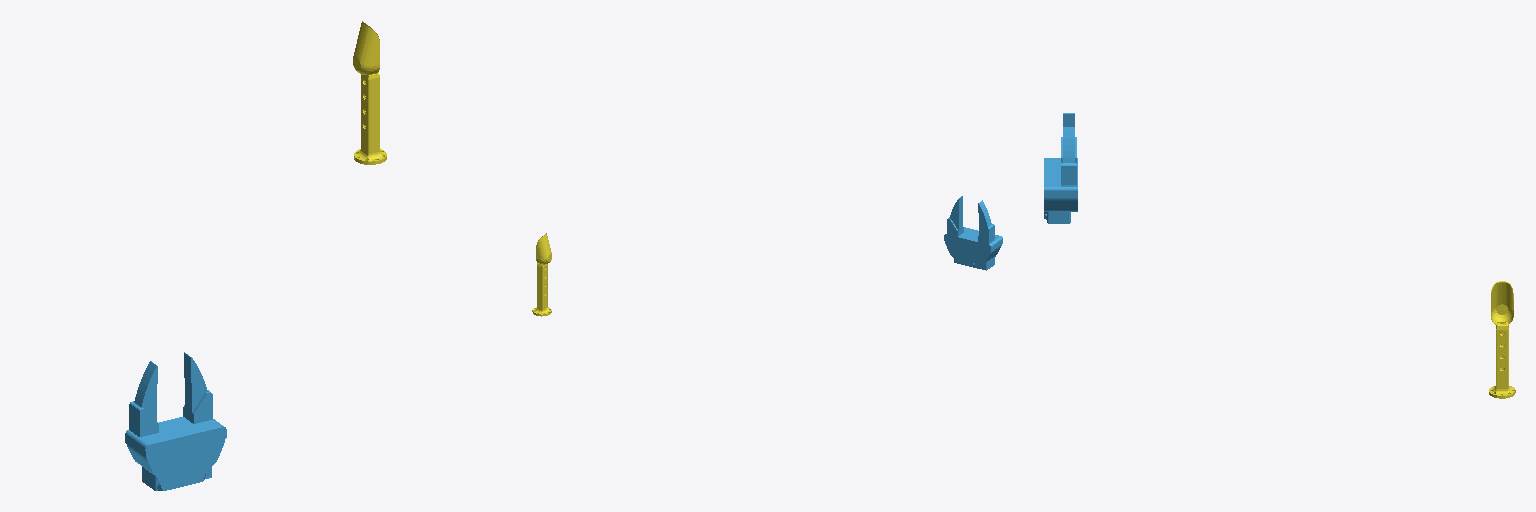
The robot description file, URDF, robot "dual_iiwa7":
<?xml version="1.0" ?>
<!-- =================================================================================== -->
<!-- |    This document was autogenerated by xacro from [local-path]/multi_iiwa_ws/src/lbr_fri_ros2_stack/lbr_description/urdf/dual_iiwa7/dual_iiwa7_mod.xacro | -->
<!-- |    EDITING THIS FILE BY HAND IS NOT RECOMMENDED                                 | -->
<!-- =================================================================================== -->
<robot name="dual_iiwa7">
  <!-- Base link for the world -->
  <!-- <link name="world" /> -->
  <link name="world">
    <origin rpy="0 0 0" xyz="0 0 0"/>
  </link>

  <joint name="world_kuka_blue_joint" type="fixed">
    <origin rpy="0 0 0" xyz="0 0 0"/>
    <parent link="world"/>
    <child link="kuka_blue_link_0"/>
  </joint>
  <link name="kuka_blue_link_0">
    <inertial>
      <origin rpy="0 0 0" xyz="-0.012857 0.0 0.069964"/>
      <mass value="4.855658"/>
      <inertia ixx="0.017839" ixy="0.0" ixz="0.000781" iyy="0.022294" iyz="0.0" izz="0.021334"/>
    </inertial>
    <visual>
      <origin rpy="0 0 0" xyz="0 0 0"/>
      <geometry>
        <mesh filename="package://lbr_description/meshes/iiwa7/visual/link_0.dae"/>
      </geometry>
    </visual>
    <collision>
      <origin rpy="0 0 0" xyz="0 0 0"/>
      <geometry>
        <mesh filename="package://lbr_description/meshes/iiwa7/collision/link_0.stl"/>
      </geometry>
    </collision>
  </link>
  <joint name="kuka_blue_A1" type="revolute">
    <origin rpy="0 0 0" xyz="0.0 0.0 0.1475"/>
    <parent link="kuka_blue_link_0"/>
    <child link="kuka_blue_link_1"/>
    <axis xyz="0.0 0.0 1.0"/>
    <limit effort="200" lower="-2.9670597283903604" upper="2.9670597283903604" velocity="1.710422666954443"/>
    <dynamics damping="10.0" friction="0.1"/>
  </joint>
  <link name="kuka_blue_link_1">
    <inertial>
      <origin rpy="0 0 0" xyz="0.0 -0.034819 0.123299"/>
      <mass value="3.394011"/>
      <inertia ixx="0.021383" ixy="0.0" ixz="0.0" iyy="0.020403" iyz="0.003797" izz="0.007563"/>
    </inertial>
    <visual>
      <origin rpy="0 0 0" xyz="0.0 0.0 -0.1475"/>
      <geometry>
        <mesh filename="package://lbr_description/meshes/iiwa7/visual/link_1.dae"/>
      </geometry>
    </visual>
    <collision>
      <origin rpy="0 0 0" xyz="0.0 0.0 -0.1475"/>
      <geometry>
        <mesh filename="package://lbr_description/meshes/iiwa7/collision/link_1.stl"/>
      </geometry>
    </collision>
  </link>
  <joint name="kuka_blue_A2" type="revolute">
    <origin rpy="0 0 0" xyz="0.0 -0.0105 0.1925"/>
    <parent link="kuka_blue_link_1"/>
    <child link="kuka_blue_link_2"/>
    <axis xyz="0.0 1.0 0.0"/>
    <limit effort="200" lower="-2.0943951023931953" upper="2.0943951023931953" velocity="1.710422666954443"/>
    <dynamics damping="10.0" friction="0.1"/>
  </joint>
  <link name="kuka_blue_link_2">
    <inertial>
      <origin rpy="0 0 0" xyz="0.0 0.039793 0.086944"/>
      <mass value="4.031991"/>
      <inertia ixx="0.031697" ixy="0.0" ixz="0.0" iyy="0.03008" iyz="0.005889" izz="0.009666"/>
    </inertial>
    <visual>
      <origin rpy="0 0 0" xyz="0.0 0.0105 -0.34"/>
      <geometry>
        <mesh filename="package://lbr_description/meshes/iiwa7/visual/link_2.dae"/>
      </geometry>
    </visual>
    <collision>
      <origin rpy="0 0 0" xyz="0.0 0.0105 -0.34"/>
      <geometry>
        <mesh filename="package://lbr_description/meshes/iiwa7/collision/link_2.stl"/>
      </geometry>
    </collision>
  </link>
  <joint name="kuka_blue_A3" type="revolute">
    <origin rpy="0 0 0" xyz="0.0 0.0105 0.2075"/>
    <parent link="kuka_blue_link_2"/>
    <child link="kuka_blue_link_3"/>
    <axis xyz="0.0 0.0 1.0"/>
    <limit effort="200" lower="-2.9670597283903604" upper="2.9670597283903604" velocity="1.7453292519943295"/>
    <dynamics damping="10.0" friction="0.1"/>
  </joint>
  <link name="kuka_blue_link_3">
    <inertial>
      <origin rpy="0 0 0" xyz="0.0 0.034819 0.123299"/>
      <mass value="3.394011"/>
      <inertia ixx="0.021383" ixy="0.0" ixz="0.0" iyy="0.020403" iyz="-0.003797" izz="0.007563"/>
    </inertial>
    <visual>
      <origin rpy="0 0 0" xyz="0.0 0.0 -0.5475"/>
      <geometry>
        <mesh filename="package://lbr_description/meshes/iiwa7/visual/link_3.dae"/>
      </geometry>
    </visual>
    <collision>
      <origin rpy="0 0 0" xyz="0.0 0.0 -0.5475"/>
      <geometry>
        <mesh filename="package://lbr_description/meshes/iiwa7/collision/link_3.stl"/>
      </geometry>
    </collision>
  </link>
  <joint name="kuka_blue_A4" type="revolute">
    <origin rpy="0 0 0" xyz="0.0 0.0105 0.1925"/>
    <parent link="kuka_blue_link_3"/>
    <child link="kuka_blue_link_4"/>
    <axis xyz="0.0 -1.0 0.0"/>
    <limit effort="200" lower="-2.0943951023931953" upper="2.0943951023931953" velocity="2.2689280275926285"/>
    <dynamics damping="10.0" friction="0.1"/>
  </joint>
  <link name="kuka_blue_link_4">
    <inertial>
      <origin rpy="0 0 0" xyz="0.0 -0.039793 0.086944"/>
      <mass value="4.031989"/>
      <inertia ixx="0.031695" ixy="0.0" ixz="0.0" iyy="0.030079" iyz="-0.005889" izz="0.009665"/>
    </inertial>
    <visual>
      <origin rpy="0 0 0" xyz="0.0 -0.0105 -0.74"/>
      <geometry>
        <mesh filename="package://lbr_description/meshes/iiwa7/visual/link_4.dae"/>
      </geometry>
    </visual>
    <collision>
      <origin rpy="0 0 0" xyz="0.0 -0.0105 -0.74"/>
      <geometry>
        <mesh filename="package://lbr_description/meshes/iiwa7/collision/link_4.stl"/>
      </geometry>
    </collision>
  </link>
  <joint name="kuka_blue_A5" type="revolute">
    <origin rpy="0 0 0" xyz="0.0 -0.0105 0.2075"/>
    <parent link="kuka_blue_link_4"/>
    <child link="kuka_blue_link_5"/>
    <axis xyz="0.0 0.0 1.0"/>
    <limit effort="200" lower="-2.9670597283903604" upper="2.9670597283903604" velocity="2.443460952792061"/>
    <dynamics damping="10.0" friction="0.1"/>
  </joint>
  <link name="kuka_blue_link_5">
    <inertial>
      <origin rpy="0 0 0" xyz="0.0 -0.029824 0.076267"/>
      <mass value="1.529239"/>
      <inertia ixx="0.008485" ixy="0.0" ixz="0.0" iyy="0.007136" iyz="0.002806" izz="0.003848"/>
    </inertial>
    <visual>
      <origin rpy="0 0 0" xyz="0.0 0.0 -0.9475"/>
      <geometry>
        <mesh filename="package://lbr_description/meshes/iiwa7/visual/link_5.dae"/>
      </geometry>
    </visual>
    <collision>
      <origin rpy="0 0 0" xyz="0.0 0.0 -0.9475"/>
      <geometry>
        <mesh filename="package://lbr_description/meshes/iiwa7/collision/link_5.stl"/>
      </geometry>
    </collision>
  </link>
  <joint name="kuka_blue_A6" type="revolute">
    <origin rpy="0 0 0" xyz="0.0 -0.0707 0.1925"/>
    <parent link="kuka_blue_link_5"/>
    <child link="kuka_blue_link_6"/>
    <axis xyz="0.0 1.0 0.0"/>
    <limit effort="200" lower="-2.0943951023931953" upper="2.0943951023931953" velocity="3.141592653589793"/>
    <dynamics damping="10.0" friction="0.1"/>
  </joint>
  <link name="kuka_blue_link_6">
    <inertial>
      <origin rpy="0 0 0" xyz="0.0 0.07102 0.00495"/>
      <mass value="2.403626"/>
      <inertia ixx="0.007067" ixy="0.0" ixz="0.0" iyy="0.006804" iyz="0.000311" izz="0.004629"/>
    </inertial>
    <visual>
      <origin rpy="0 0 0" xyz="0.0 0.0707 -1.14"/>
      <geometry>
        <mesh filename="package://lbr_description/meshes/iiwa7/visual/link_6.dae"/>
      </geometry>
    </visual>
    <collision>
      <origin rpy="0 0 0" xyz="0.0 0.0707 -1.14"/>
      <geometry>
        <mesh filename="package://lbr_description/meshes/iiwa7/collision/link_6.stl"/>
      </geometry>
    </collision>
  </link>
  <joint name="kuka_blue_A7" type="revolute">
    <origin rpy="0 0 0" xyz="0.0 0.0707 0.091"/>
    <parent link="kuka_blue_link_6"/>
    <child link="kuka_blue_link_7"/>
    <axis xyz="0.0 0.0 1.0"/>
    <limit effort="200" lower="-3.0543261909900763" upper="3.0543261909900763" velocity="3.141592653589793"/>
    <dynamics damping="10.0" friction="0.1"/>
  </joint>
  <link name="kuka_blue_link_7">
    <inertial>
      <origin rpy="0 0 0" xyz="3.0000e-06 -2.0000e-06 1.3782e-02"/>
      <mass value="0.259474"/>
      <inertia ixx="0.000171" ixy="0.0" ixz="0.0" iyy="0.000171" iyz="0.0" izz="0.000299"/>
    </inertial>
    <visual>
      <origin rpy="0 0 0" xyz="0.0 0.0 -1.231"/>
      <geometry>
        <mesh filename="package://lbr_description/meshes/iiwa7/visual/link_7.dae"/>
      </geometry>
    </visual>
    <collision>
      <origin rpy="0 0 0" xyz="0.0 0.0 -1.231"/>
      <geometry>
        <mesh filename="package://lbr_description/meshes/iiwa7/collision/link_7.stl"/>
      </geometry>
    </collision>
  </link>
  <joint name="kuka_blue_joint_ee" type="fixed">
    <parent link="kuka_blue_link_7"/>
    <child link="kuka_blue_link_ee"/>
    <origin rpy="0 0 0" xyz="0 0 0.035"/>
  </joint>
  <link name="kuka_blue_link_ee">
    <inertial>
      <origin rpy="0 0 0" xyz="0 0 0"/>
      <mass value="1.3"/>
      <inertia ixx="0.0001" ixy="0.0" ixz="0.0" iyy="0.0001" iyz="0.0" izz="0.0001"/>
    </inertial>
    <visual>
      <origin rpy="1.5708 0 0" xyz="0.0 0.0 0.035"/>
      <geometry>
        <mesh filename="package://lbr_description/meshes/iiwa7/visual/gripper_collision.dae"/>
      </geometry>
    </visual>
    <collision>
      <origin rpy="1.5708 0 0" xyz="0.0 0.0 0.035"/>
      <geometry>
        <mesh filename="package://lbr_description/meshes/iiwa7/collision/compressed_gripper.stl"/>
      </geometry>
    </collision>
  </link>
  <joint name="kuka_blue_joint_tcp" type="fixed">
    <parent link="kuka_blue_link_ee"/>
    <child link="kuka_blue_link_tcp"/>
    <origin rpy="0 0 0" xyz="-0.0002 0.0016 0.1705"/>
  </joint>
  <link name="kuka_blue_link_tcp">
        </link>

  <joint name="world_kuka_green_joint" type="fixed">
    <origin rpy="0 0 0" xyz="1 1 0"/>
    <parent link="world"/>
    <child link="kuka_green_link_0"/>
  </joint>
  <link name="kuka_green_link_0">
    <inertial>
      <origin rpy="0 0 0" xyz="-0.012857 0.0 0.069964"/>
      <mass value="4.855658"/>
      <inertia ixx="0.017839" ixy="0.0" ixz="0.000781" iyy="0.022294" iyz="0.0" izz="0.021334"/>
    </inertial>
    <visual>
      <origin rpy="0 0 0" xyz="0 0 0"/>
      <geometry>
        <mesh filename="package://lbr_description/meshes/iiwa7/visual/link_0.dae"/>
      </geometry>
    </visual>
    <collision>
      <origin rpy="0 0 0" xyz="0 0 0"/>
      <geometry>
        <mesh filename="package://lbr_description/meshes/iiwa7/collision/link_0.stl"/>
      </geometry>
    </collision>
  </link>
  <joint name="kuka_green_A1" type="revolute">
    <origin rpy="0 0 0" xyz="0.0 0.0 0.1475"/>
    <parent link="kuka_green_link_0"/>
    <child link="kuka_green_link_1"/>
    <axis xyz="0.0 0.0 1.0"/>
    <limit effort="200" lower="-2.9670597283903604" upper="2.9670597283903604" velocity="1.710422666954443"/>
    <dynamics damping="10.0" friction="0.1"/>
  </joint>
  <link name="kuka_green_link_1">
    <inertial>
      <origin rpy="0 0 0" xyz="0.0 -0.034819 0.123299"/>
      <mass value="3.394011"/>
      <inertia ixx="0.021383" ixy="0.0" ixz="0.0" iyy="0.020403" iyz="0.003797" izz="0.007563"/>
    </inertial>
    <visual>
      <origin rpy="0 0 0" xyz="0.0 0.0 -0.1475"/>
      <geometry>
        <mesh filename="package://lbr_description/meshes/iiwa7/visual/link_1.dae"/>
      </geometry>
    </visual>
    <collision>
      <origin rpy="0 0 0" xyz="0.0 0.0 -0.1475"/>
      <geometry>
        <mesh filename="package://lbr_description/meshes/iiwa7/collision/link_1.stl"/>
      </geometry>
    </collision>
  </link>
  <joint name="kuka_green_A2" type="revolute">
    <origin rpy="0 0 0" xyz="0.0 -0.0105 0.1925"/>
    <parent link="kuka_green_link_1"/>
    <child link="kuka_green_link_2"/>
    <axis xyz="0.0 1.0 0.0"/>
    <limit effort="200" lower="-2.0943951023931953" upper="2.0943951023931953" velocity="1.710422666954443"/>
    <dynamics damping="10.0" friction="0.1"/>
  </joint>
  <link name="kuka_green_link_2">
    <inertial>
      <origin rpy="0 0 0" xyz="0.0 0.039793 0.086944"/>
      <mass value="4.031991"/>
      <inertia ixx="0.031697" ixy="0.0" ixz="0.0" iyy="0.03008" iyz="0.005889" izz="0.009666"/>
    </inertial>
    <visual>
      <origin rpy="0 0 0" xyz="0.0 0.0105 -0.34"/>
      <geometry>
        <mesh filename="package://lbr_description/meshes/iiwa7/visual/link_2.dae"/>
      </geometry>
    </visual>
    <collision>
      <origin rpy="0 0 0" xyz="0.0 0.0105 -0.34"/>
      <geometry>
        <mesh filename="package://lbr_description/meshes/iiwa7/collision/link_2.stl"/>
      </geometry>
    </collision>
  </link>
  <joint name="kuka_green_A3" type="revolute">
    <origin rpy="0 0 0" xyz="0.0 0.0105 0.2075"/>
    <parent link="kuka_green_link_2"/>
    <child link="kuka_green_link_3"/>
    <axis xyz="0.0 0.0 1.0"/>
    <limit effort="200" lower="-2.9670597283903604" upper="2.9670597283903604" velocity="1.7453292519943295"/>
    <dynamics damping="10.0" friction="0.1"/>
  </joint>
  <link name="kuka_green_link_3">
    <inertial>
      <origin rpy="0 0 0" xyz="0.0 0.034819 0.123299"/>
      <mass value="3.394011"/>
      <inertia ixx="0.021383" ixy="0.0" ixz="0.0" iyy="0.020403" iyz="-0.003797" izz="0.007563"/>
    </inertial>
    <visual>
      <origin rpy="0 0 0" xyz="0.0 0.0 -0.5475"/>
      <geometry>
        <mesh filename="package://lbr_description/meshes/iiwa7/visual/link_3.dae"/>
      </geometry>
    </visual>
    <collision>
      <origin rpy="0 0 0" xyz="0.0 0.0 -0.5475"/>
      <geometry>
        <mesh filename="package://lbr_description/meshes/iiwa7/collision/link_3.stl"/>
      </geometry>
    </collision>
  </link>
  <joint name="kuka_green_A4" type="revolute">
    <origin rpy="0 0 0" xyz="0.0 0.0105 0.1925"/>
    <parent link="kuka_green_link_3"/>
    <child link="kuka_green_link_4"/>
    <axis xyz="0.0 -1.0 0.0"/>
    <limit effort="200" lower="-2.0943951023931953" upper="2.0943951023931953" velocity="2.2689280275926285"/>
    <dynamics damping="10.0" friction="0.1"/>
  </joint>
  <link name="kuka_green_link_4">
    <inertial>
      <origin rpy="0 0 0" xyz="0.0 -0.039793 0.086944"/>
      <mass value="4.031989"/>
      <inertia ixx="0.031695" ixy="0.0" ixz="0.0" iyy="0.030079" iyz="-0.005889" izz="0.009665"/>
    </inertial>
    <visual>
      <origin rpy="0 0 0" xyz="0.0 -0.0105 -0.74"/>
      <geometry>
        <mesh filename="package://lbr_description/meshes/iiwa7/visual/link_4.dae"/>
      </geometry>
    </visual>
    <collision>
      <origin rpy="0 0 0" xyz="0.0 -0.0105 -0.74"/>
      <geometry>
        <mesh filename="package://lbr_description/meshes/iiwa7/collision/link_4.stl"/>
      </geometry>
    </collision>
  </link>
  <joint name="kuka_green_A5" type="revolute">
    <origin rpy="0 0 0" xyz="0.0 -0.0105 0.2075"/>
    <parent link="kuka_green_link_4"/>
    <child link="kuka_green_link_5"/>
    <axis xyz="0.0 0.0 1.0"/>
    <limit effort="200" lower="-2.9670597283903604" upper="2.9670597283903604" velocity="2.443460952792061"/>
    <dynamics damping="10.0" friction="0.1"/>
  </joint>
  <link name="kuka_green_link_5">
    <inertial>
      <origin rpy="0 0 0" xyz="0.0 -0.029824 0.076267"/>
      <mass value="1.529239"/>
      <inertia ixx="0.008485" ixy="0.0" ixz="0.0" iyy="0.007136" iyz="0.002806" izz="0.003848"/>
    </inertial>
    <visual>
      <origin rpy="0 0 0" xyz="0.0 0.0 -0.9475"/>
      <geometry>
        <mesh filename="package://lbr_description/meshes/iiwa7/visual/link_5.dae"/>
      </geometry>
    </visual>
    <collision>
      <origin rpy="0 0 0" xyz="0.0 0.0 -0.9475"/>
      <geometry>
        <mesh filename="package://lbr_description/meshes/iiwa7/collision/link_5.stl"/>
      </geometry>
    </collision>
  </link>
  <joint name="kuka_green_A6" type="revolute">
    <origin rpy="0 0 0" xyz="0.0 -0.0707 0.1925"/>
    <parent link="kuka_green_link_5"/>
    <child link="kuka_green_link_6"/>
    <axis xyz="0.0 1.0 0.0"/>
    <limit effort="200" lower="-2.0943951023931953" upper="2.0943951023931953" velocity="3.141592653589793"/>
    <dynamics damping="10.0" friction="0.1"/>
  </joint>
  <link name="kuka_green_link_6">
    <inertial>
      <origin rpy="0 0 0" xyz="0.0 0.07102 0.00495"/>
      <mass value="2.403626"/>
      <inertia ixx="0.007067" ixy="0.0" ixz="0.0" iyy="0.006804" iyz="0.000311" izz="0.004629"/>
    </inertial>
    <visual>
      <origin rpy="0 0 0" xyz="0.0 0.0707 -1.14"/>
      <geometry>
        <mesh filename="package://lbr_description/meshes/iiwa7/visual/link_6.dae"/>
      </geometry>
    </visual>
    <collision>
      <origin rpy="0 0 0" xyz="0.0 0.0707 -1.14"/>
      <geometry>
        <mesh filename="package://lbr_description/meshes/iiwa7/collision/link_6.stl"/>
      </geometry>
    </collision>
  </link>
  <joint name="kuka_green_A7" type="revolute">
    <origin rpy="0 0 0" xyz="0.0 0.0707 0.091"/>
    <parent link="kuka_green_link_6"/>
    <child link="kuka_green_link_7"/>
    <axis xyz="0.0 0.0 1.0"/>
    <limit effort="200" lower="-3.0543261909900763" upper="3.0543261909900763" velocity="3.141592653589793"/>
    <dynamics damping="10.0" friction="0.1"/>
  </joint>
  <link name="kuka_green_link_7">
    <inertial>
      <origin rpy="0 0 0" xyz="3.0000e-06 -2.0000e-06 1.3782e-02"/>
      <mass value="0.259474"/>
      <inertia ixx="0.000171" ixy="0.0" ixz="0.0" iyy="0.000171" iyz="0.0" izz="0.000299"/>
    </inertial>
    <visual>
      <origin rpy="0 0 0" xyz="0.0 0.0 -1.231"/>
      <geometry>
        <mesh filename="package://lbr_description/meshes/iiwa7/visual/link_7.dae"/>
      </geometry>
    </visual>
    <collision>
      <origin rpy="0 0 0" xyz="0.0 0.0 -1.231"/>
      <geometry>
        <mesh filename="package://lbr_description/meshes/iiwa7/collision/link_7.stl"/>
      </geometry>
    </collision>
  </link>
  <joint name="kuka_green_joint_ee" type="fixed">
    <parent link="kuka_green_link_7"/>
    <child link="kuka_green_link_ee"/>
    <origin rpy="0 0 0" xyz="0 0 0.035"/>
  </joint>
  <link name="kuka_green_link_ee">
    <inertial>
      <origin rpy="0 0 0" xyz="0 0 0"/>
      <mass value="0.1"/>
      <inertia ixx="0.0001" ixy="0.0" ixz="0.0" iyy="0.0001" iyz="0.0" izz="0.0001"/>
    </inertial>
    <visual>
      <origin rpy="0 0 0" xyz="0.0 -0.022 0.035"/>
      <geometry>
        <mesh filename="package://lbr_description/meshes/iiwa7/visual/scooper_collision.dae"/>
      </geometry>
    </visual>
    <collision>
      <origin rpy="0 0 0" xyz="0.0 -0.022 0.035"/>
      <geometry>
        <mesh filename="package://lbr_description/meshes/iiwa7/collision/compressed_mesh_scooper.stl"/>
      </geometry>
    </collision>
  </link>
  <joint name="kuka_green_joint_tcp" type="fixed">
    <parent link="kuka_green_link_ee"/>
    <child link="kuka_green_link_tcp"/>
    <origin rpy="0 0 0" xyz="-0.0156 -0.0024 0.3386"/>
  </joint>
  <link name="kuka_green_link_tcp">
        </link>
</robot>

--- Render facts (derived) ---
Views: 3 orthographic renders of the robot side by side, from view 1: azimuth 30°, elevation 25°; view 2: azimuth 150°, elevation 25°; view 3: azimuth 270°, elevation 25°.
Model dual_iiwa7 with 21 links and 20 joints (14 revolute, 6 fixed), rooted at world, posed every joint at zero.
Visible links, largest first — view 1: kuka_blue_link_ee, kuka_green_link_ee; view 2: kuka_blue_link_ee, kuka_green_link_ee; view 3: kuka_blue_link_ee, kuka_green_link_ee.
Boxes of the visible links, left/top/right/bottom form: kuka_blue_link_ee: left=125, top=352, right=226, bottom=490; kuka_green_link_ee: left=353, top=21, right=386, bottom=164; kuka_blue_link_ee: left=944, top=196, right=1002, bottom=270; kuka_green_link_ee: left=532, top=233, right=551, bottom=316; kuka_blue_link_ee: left=1044, top=113, right=1077, bottom=223; kuka_green_link_ee: left=1489, top=281, right=1515, bottom=398.
Size in the robot's own frame: 1.12 by 1.08 by 0.2852 metres.
2 mesh visuals loaded from 10 distinct referenced files (2 Collada DAE); not drawn: 16 (reference not matched to a file when rendering).